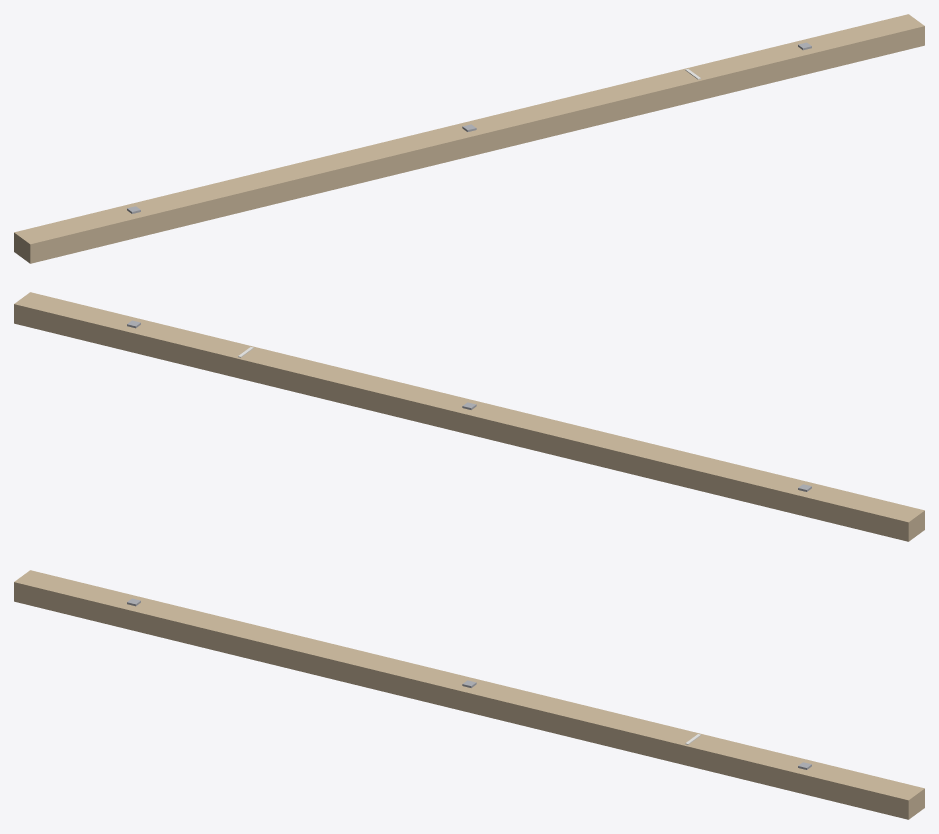
Rendered from prop-tile-batten-blank.fbx.
3 views of the same model, one above another, from view 1: azimuth 30°, elevation 25°; view 2: azimuth 150°, elevation 25°; view 3: azimuth 330°, elevation 25° (orthographic).
Visible parts, largest first — view 1: prop-tile-batten-blank; view 2: prop-tile-batten-blank; view 3: prop-tile-batten-blank.
Boxes of the visible parts, x1,y1,x2,y2 form: prop-tile-batten-blank: (14, 14, 924, 263); prop-tile-batten-blank: (14, 292, 924, 541); prop-tile-batten-blank: (14, 570, 924, 819).
Size of the model in its own units: 120 by 2.75 by 3.8.
